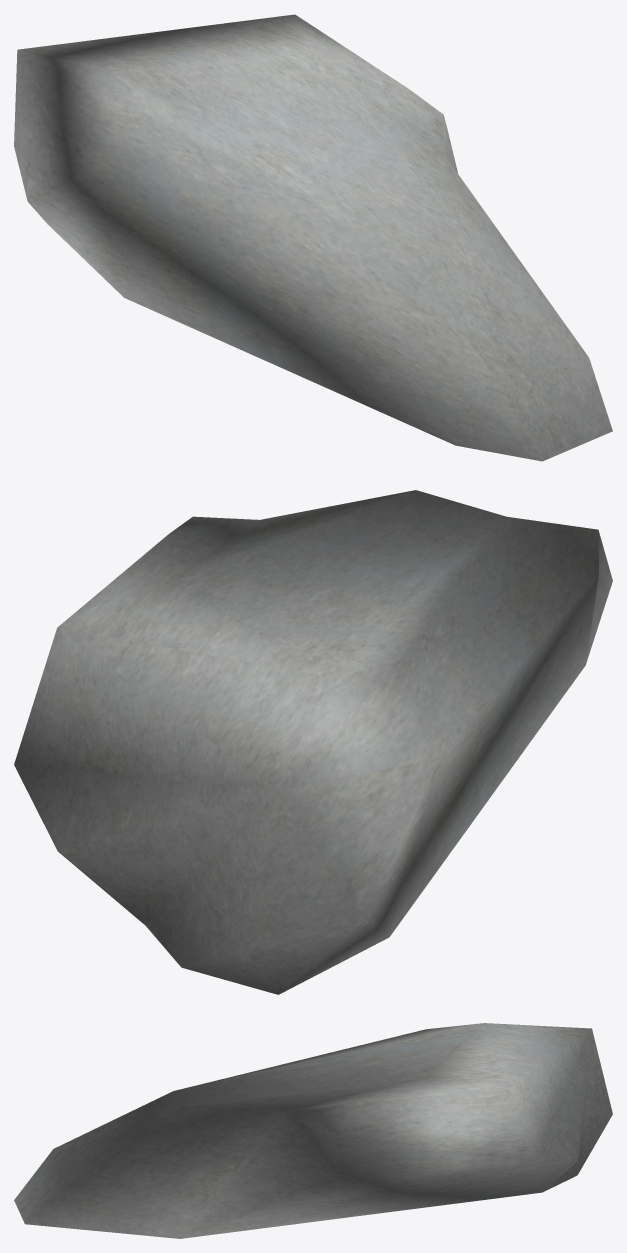
Rendered from rock01.fbx.
3 views of the same model, one above another, from view 1: azimuth 30°, elevation 25°; view 2: azimuth 150°, elevation 25°; view 3: azimuth 270°, elevation 25° (orthographic). The views are drawn at different scales.
Parts seen in each view (by area): view 1: Boulder1; view 2: Boulder1; view 3: Boulder1.
Boxes of the visible parts, x1,y1,x2,y2 form: Boulder1: [14, 14, 612, 461]; Boulder1: [14, 490, 612, 994]; Boulder1: [14, 1023, 612, 1238].
Bounding box in the file's own units: 922 × 615 × 2151.
